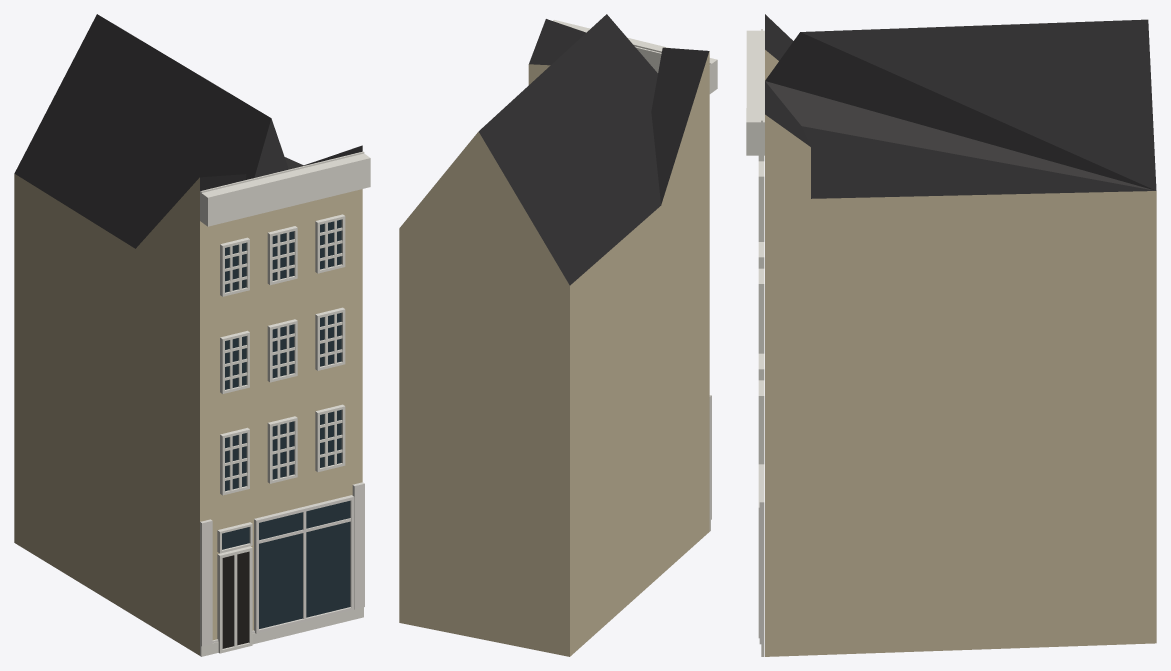
3 renders of one model, left to right at view 1: azimuth 30°, elevation 25°; view 2: azimuth 150°, elevation 25°; view 3: azimuth 270°, elevation 25°, orthographic. The views are drawn at different scales.
Visible parts, largest first — view 1: spec-0363100012178198; view 2: spec-0363100012178198; view 3: spec-0363100012178198.
Part boxes in pixels (x1,y1,x2,y2): spec-0363100012178198: (14, 14, 370, 656); spec-0363100012178198: (399, 14, 717, 656); spec-0363100012178198: (746, 14, 1156, 656).
Size of the model in its own units: 5.37 by 13.95 by 8.9.
